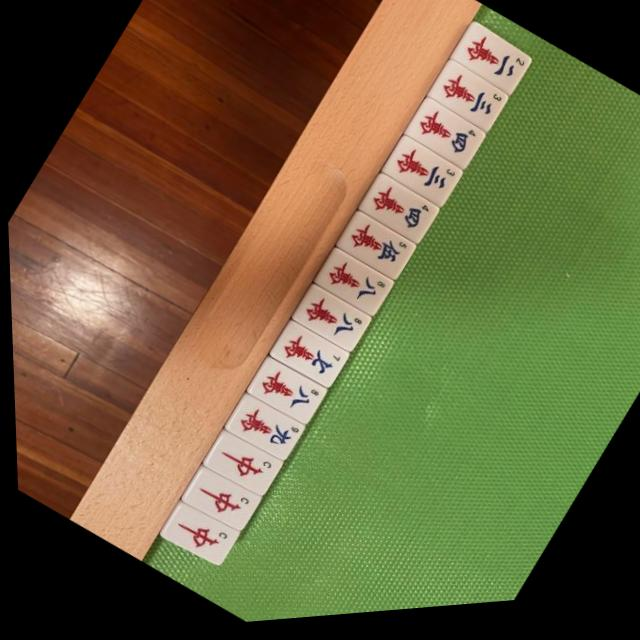hdr: (155, 498, 236, 575), (198, 428, 280, 504), (177, 464, 257, 539)
sc2: (449, 27, 533, 105)
sc3: (379, 138, 463, 219), (425, 63, 509, 143)
sc4: (355, 176, 439, 255), (401, 101, 485, 180)
sc5: (334, 214, 415, 290)
sc7: (267, 320, 349, 398)
sc8: (310, 248, 393, 326), (289, 283, 370, 361), (242, 356, 324, 432)
sd9: (219, 393, 303, 470)
